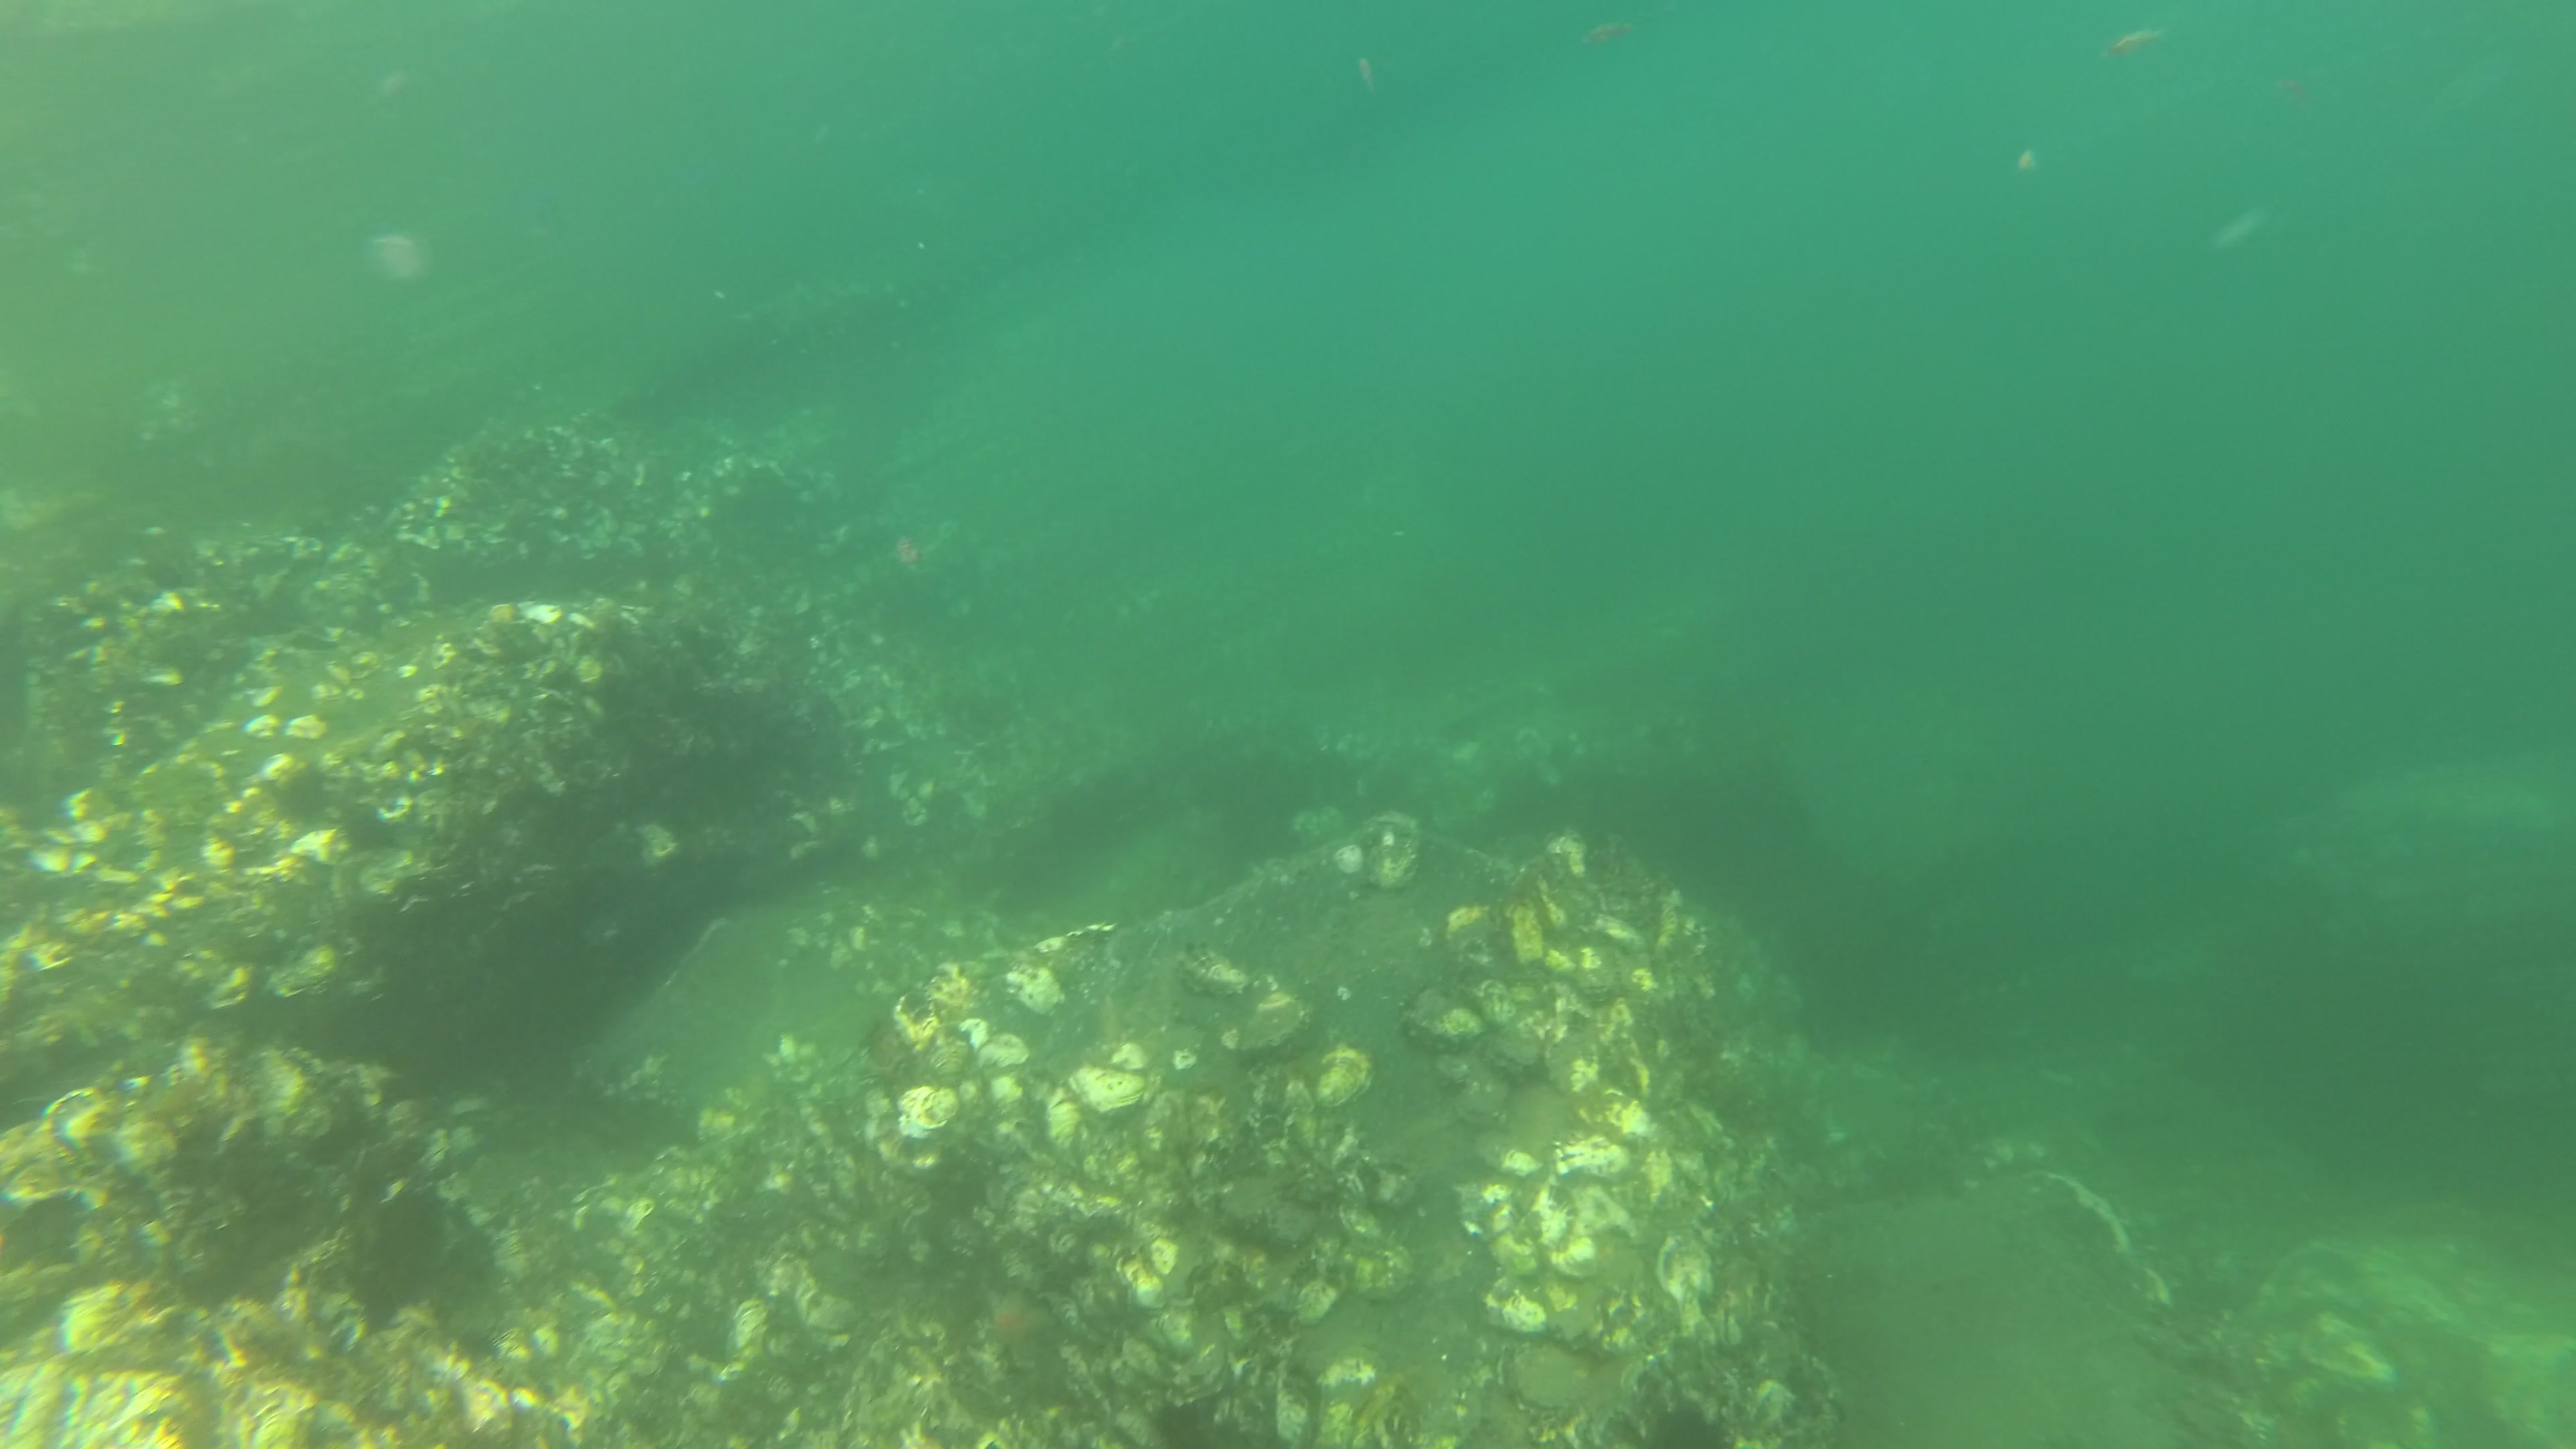echinus: (1150, 1394, 1256, 1449), (1642, 1396, 1732, 1449)
